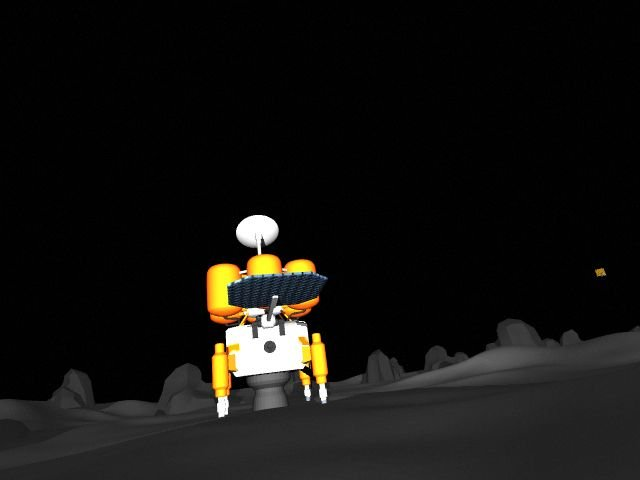homebase: (206, 213, 331, 420)
